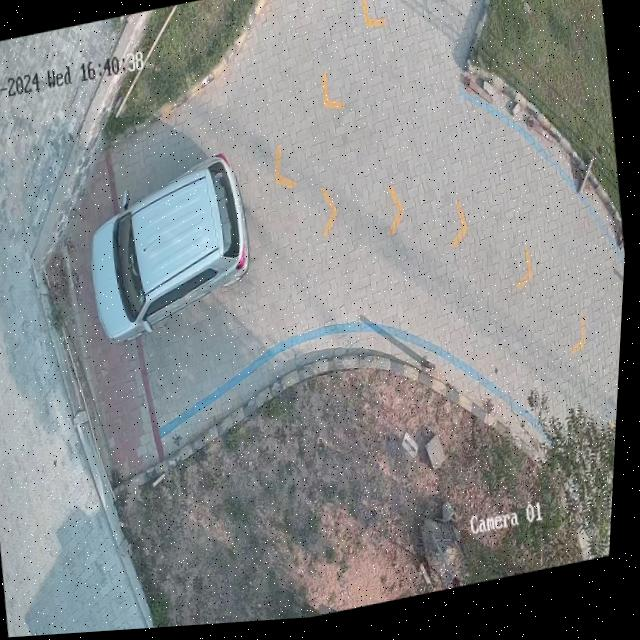car: (94, 157, 253, 344)
